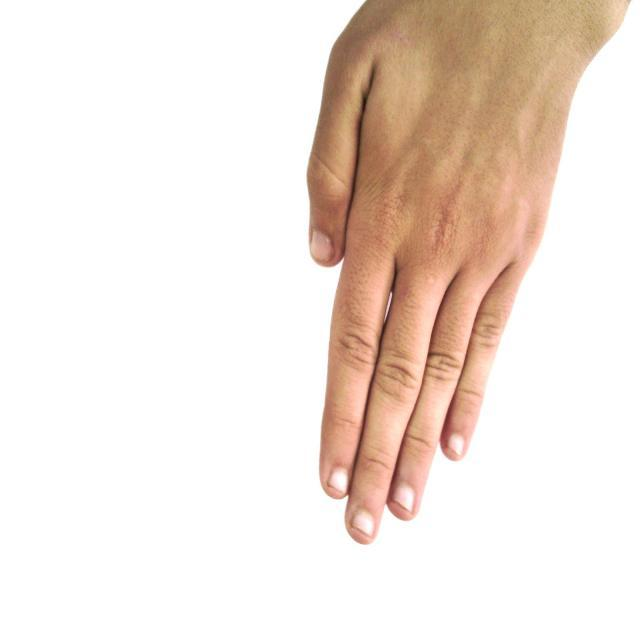Fingernail: (311, 231, 332, 263), (352, 510, 374, 537), (328, 466, 349, 493), (394, 484, 414, 509), (448, 435, 464, 455)
